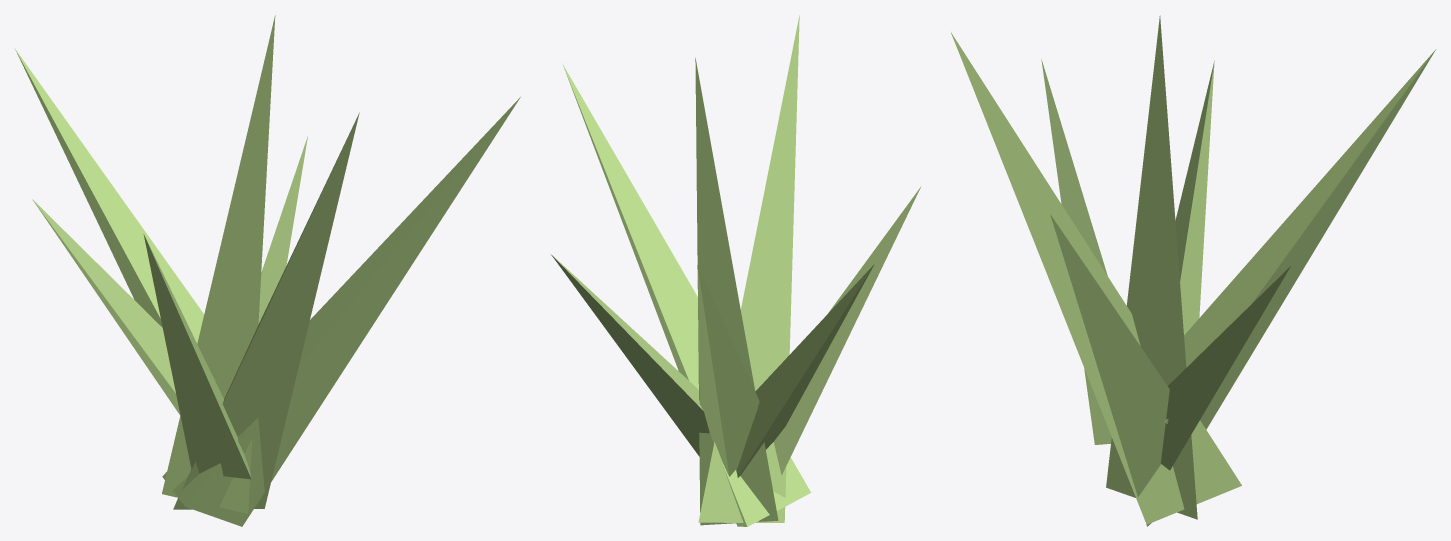
Rendered from Grass-1.fbx.
The picture shows the model from 3 angles, left to right: view 1: azimuth 30°, elevation 25°; view 2: azimuth 150°, elevation 25°; view 3: azimuth 270°, elevation 25°; orthographic projection. The views are drawn at different scales.
Visible parts, largest first — view 1: Grass; view 2: Grass; view 3: Grass.
Boxes of the visible parts, x1,y1,x2,y2 form: Grass: (15,15,520,526); Grass: (551,15,920,526); Grass: (951,15,1435,526).
Bounding box in the file's own units: 1.55 × 1.79 × 1.48.
